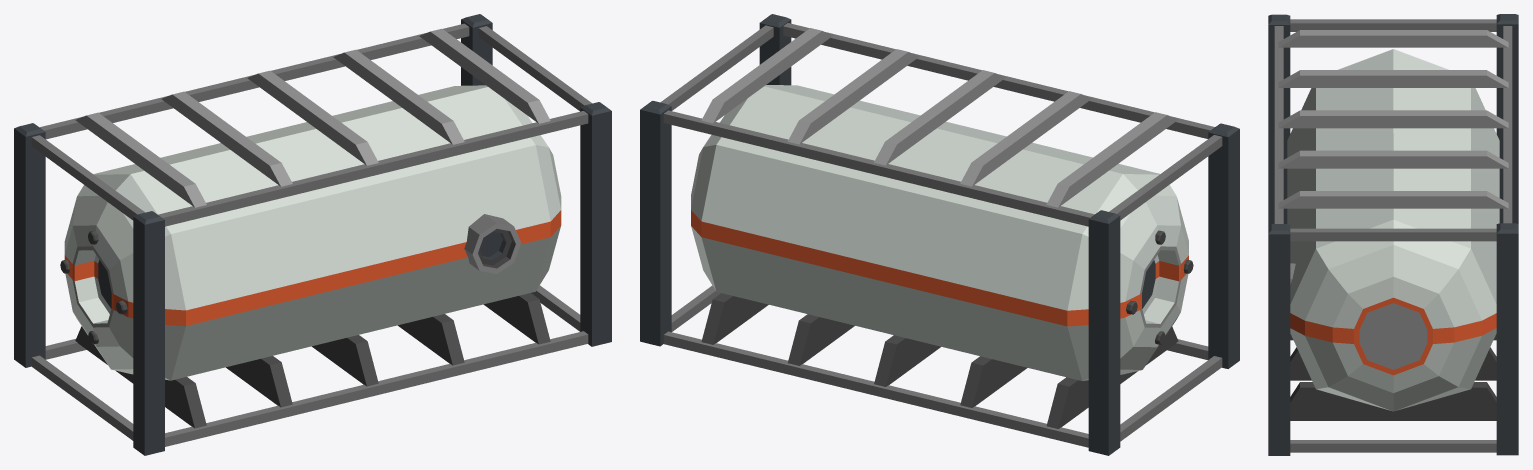
File: Pod_03.glb
The picture shows the model from 3 angles, left to right: view 1: azimuth 30°, elevation 25°; view 2: azimuth 150°, elevation 25°; view 3: azimuth 270°, elevation 25°; orthographic projection. The views are drawn at different scales.
Parts seen in each view (by area): view 1: Pod_03; view 2: Pod_03; view 3: Pod_03.
Part boxes in pixels (left/top/right/bottom): Pod_03: left=14, top=14, right=611, bottom=455; Pod_03: left=640, top=14, right=1239, bottom=455; Pod_03: left=1268, top=14, right=1518, bottom=455.
Size of what is drawn, in the model's own units: 2.72 by 1.35 by 1.32.
1 material, 1 textured.
